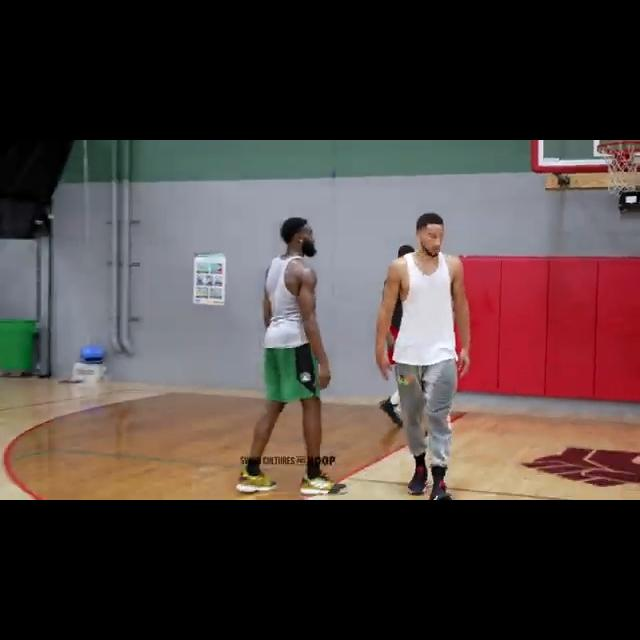hoop: (597, 142, 640, 195)
person: (236, 218, 350, 496), (374, 210, 471, 500), (377, 244, 423, 428)
